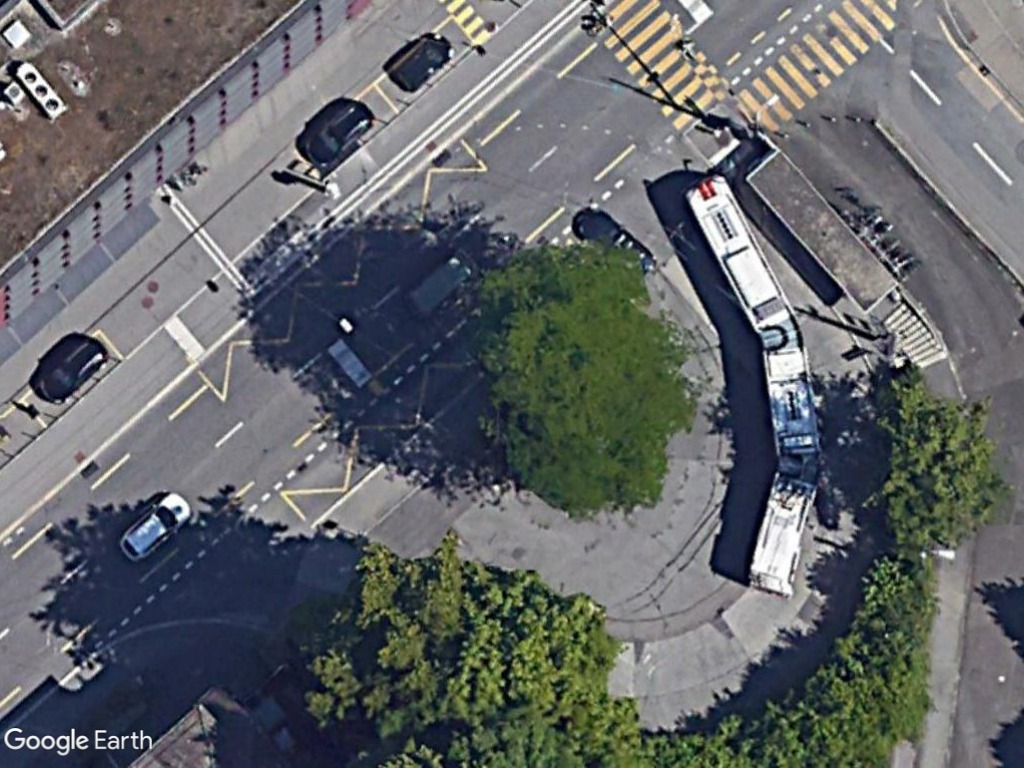bus: (681, 173, 800, 344)
car: (117, 484, 194, 566)
